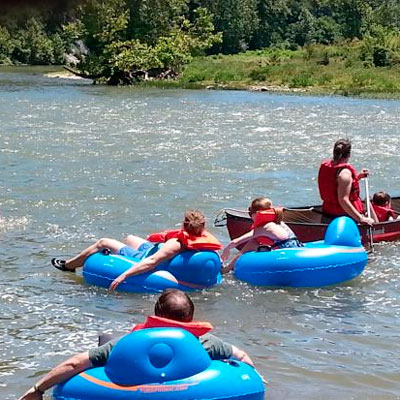Person: (18, 287, 271, 400), (51, 209, 206, 292), (220, 197, 304, 274), (318, 138, 376, 225), (372, 192, 400, 223)
